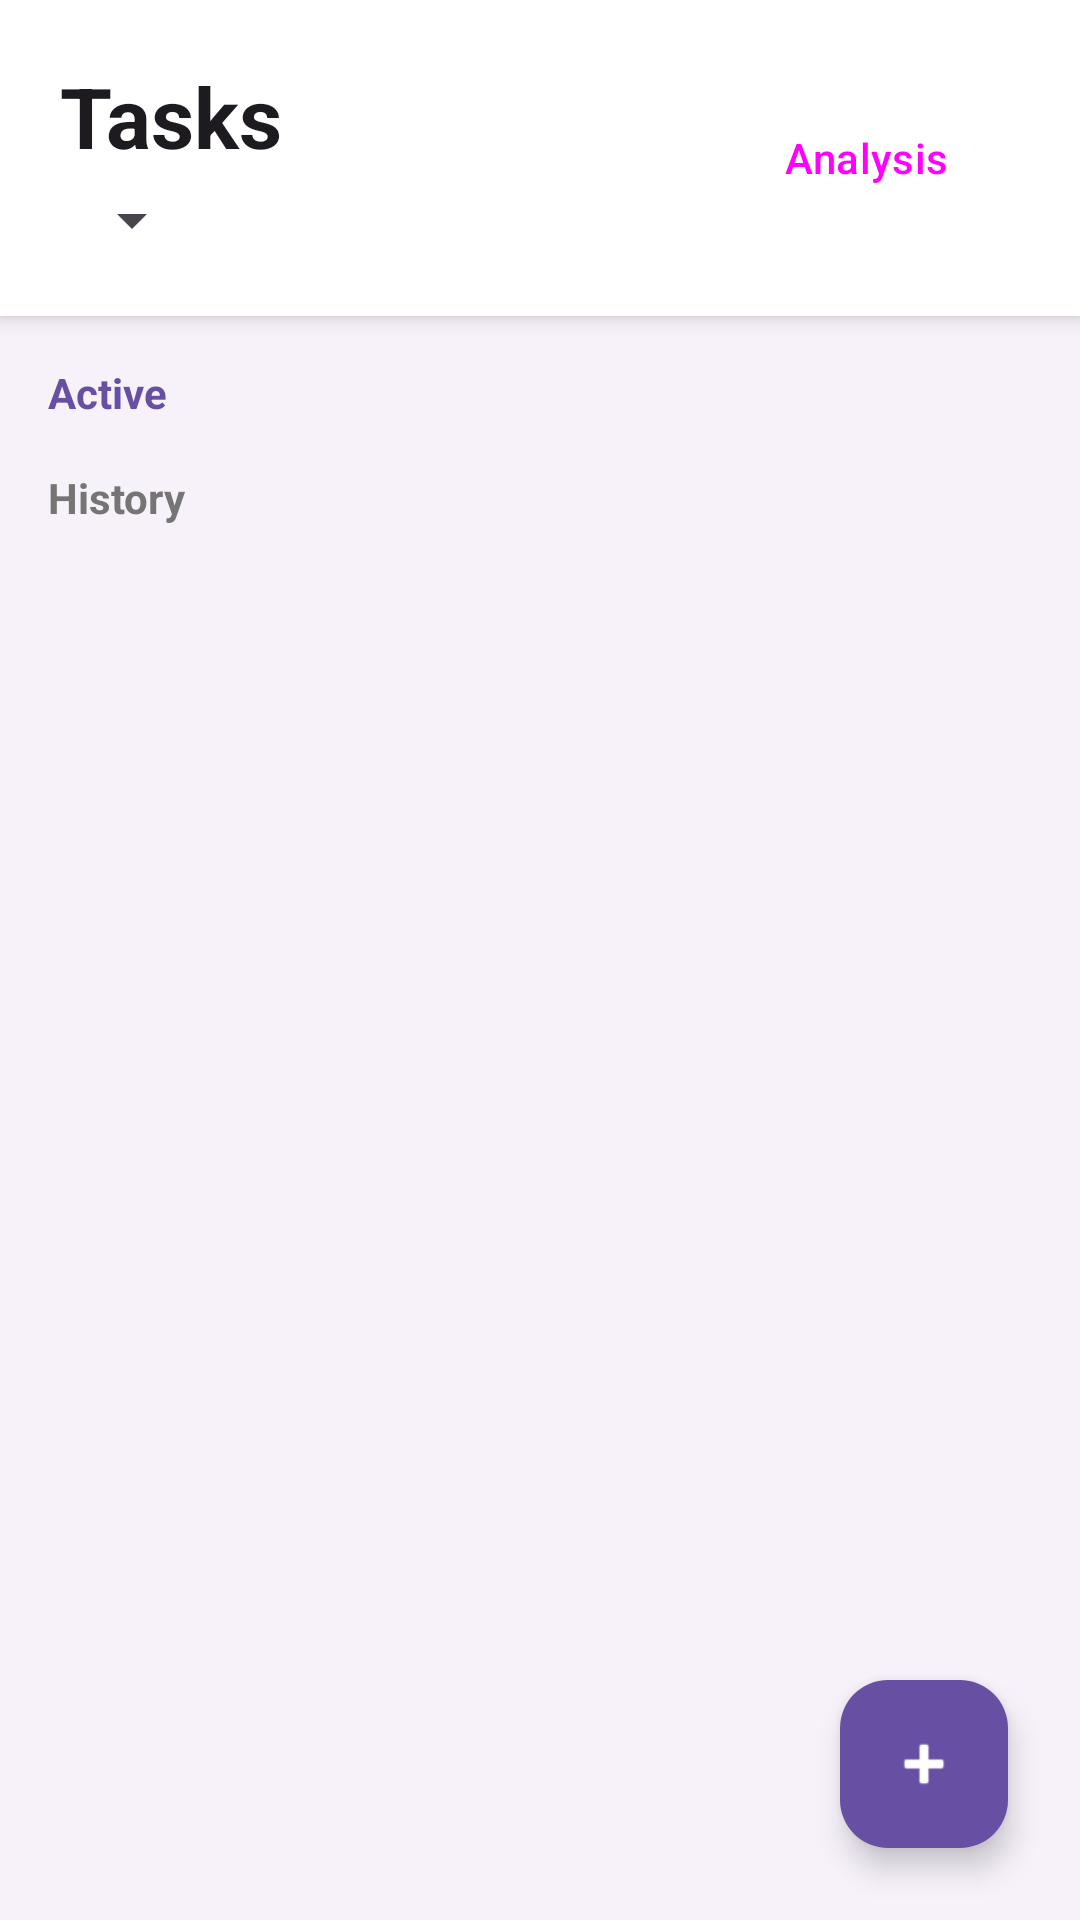

Icons on this 1080x1920 Android screen, each with its box as (x1, y1, x2, y2):
add: (840, 1680, 1008, 1848)
